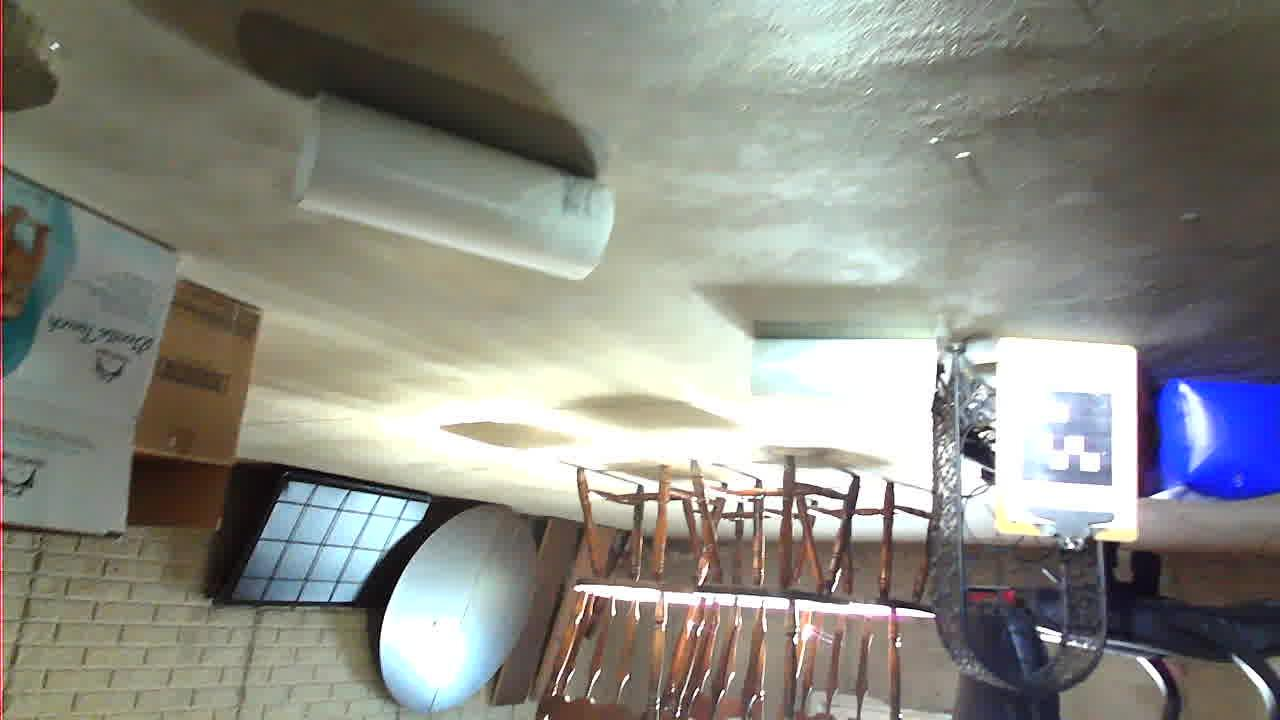coral: (665, 440, 984, 629), (343, 322, 528, 382)
